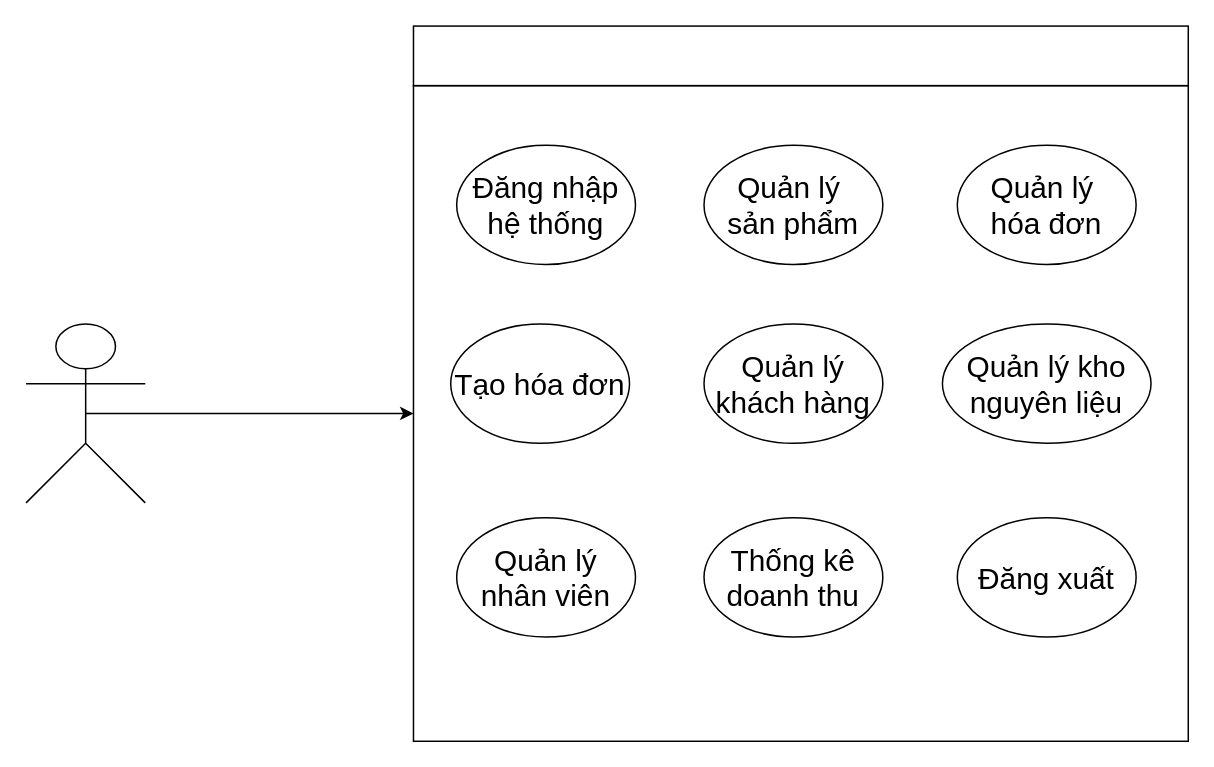
Image size: 1214x767. Some labels were removed from this diagram. Here are the shapes that lost their labels. From the top down, the centre of each, then its label:
At point (800, 55): "Hệ thống quản lý cửa hàng bánh kem Minh Tuyết".
At point (85, 413): "Quản lý".
